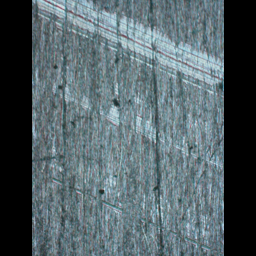d: (32, 71, 223, 170), (34, 0, 223, 99)
